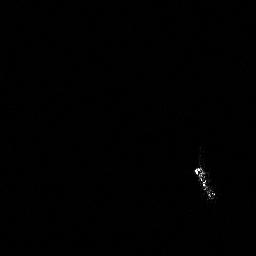ship: (191, 165, 216, 201)
